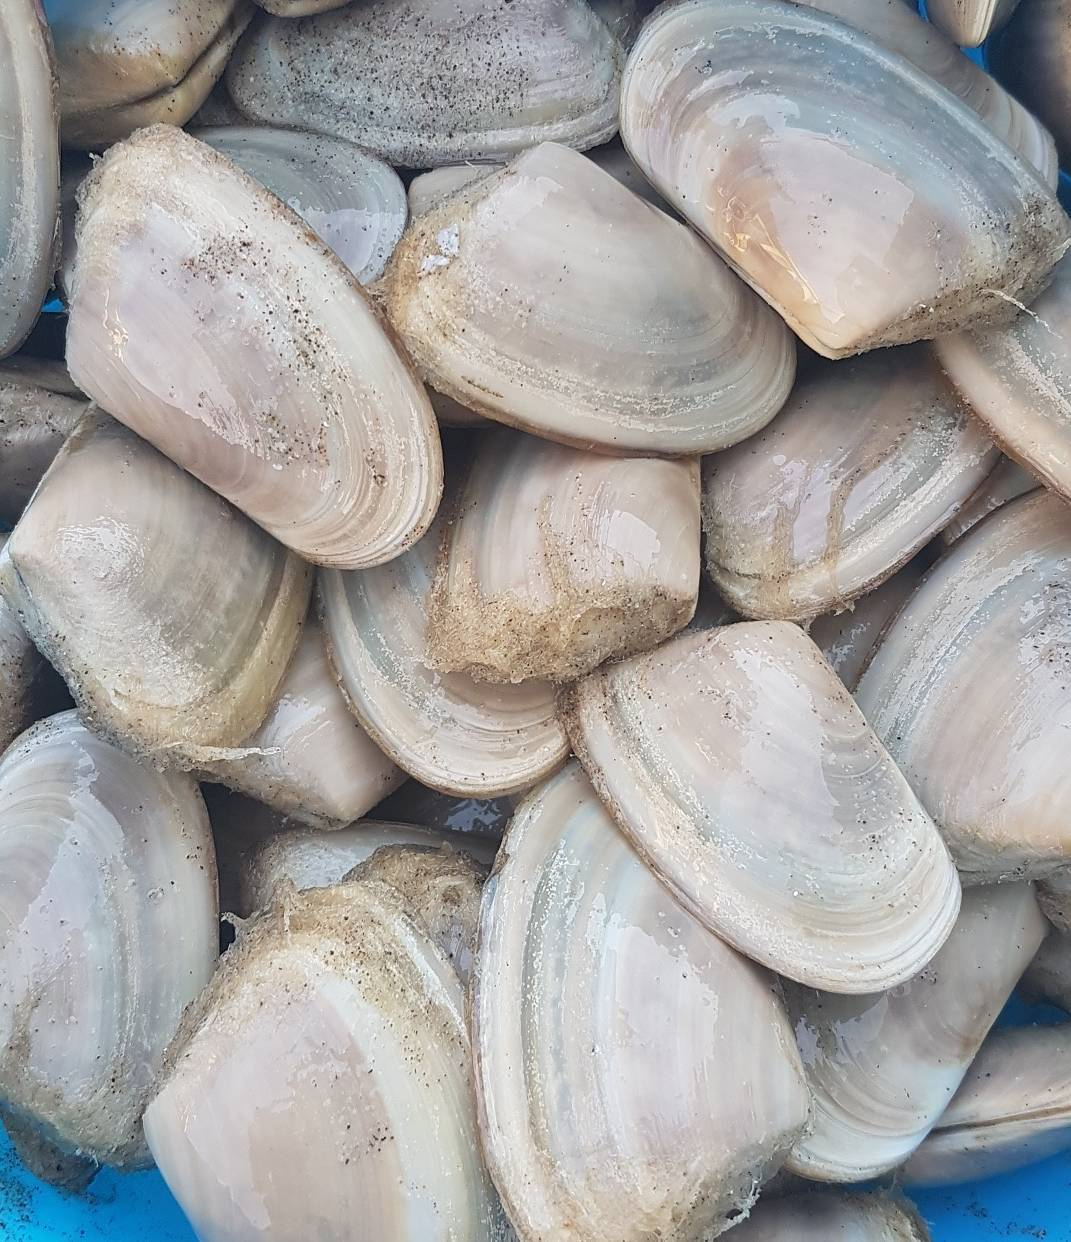tuatua: (53, 121, 450, 573), (466, 755, 815, 1242), (609, 1, 1063, 366), (550, 615, 969, 1002), (387, 136, 801, 453), (135, 882, 472, 1242), (5, 391, 313, 765), (3, 708, 225, 1181), (779, 850, 1050, 1189), (854, 479, 1071, 893), (700, 345, 1003, 629), (435, 420, 711, 697), (227, 5, 640, 171)
